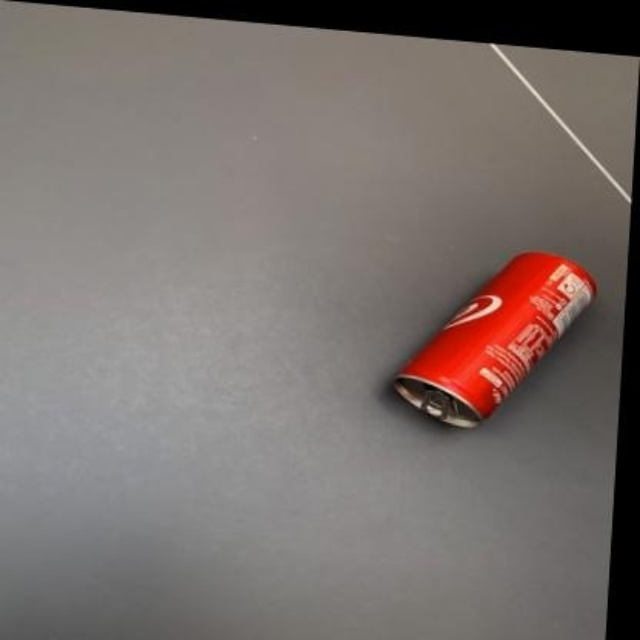trash: (394, 252, 595, 426)
